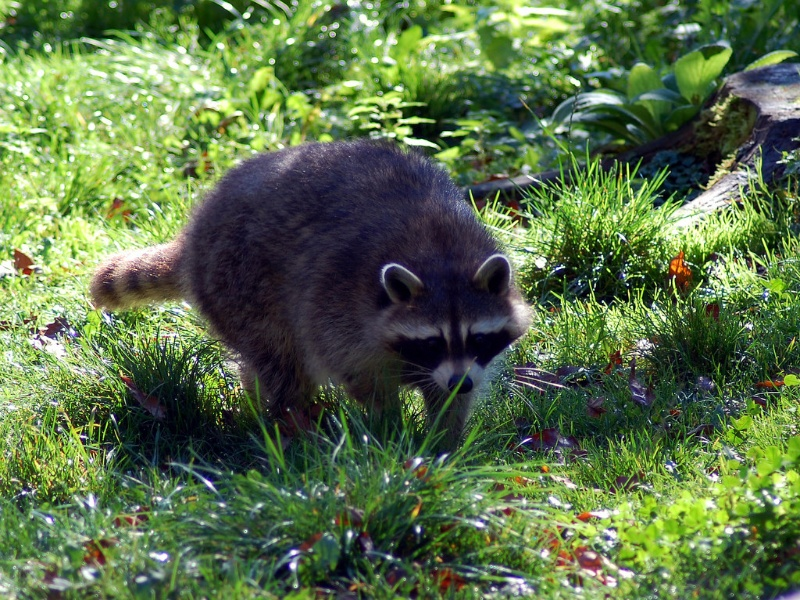raccoon: (86, 137, 542, 468)
